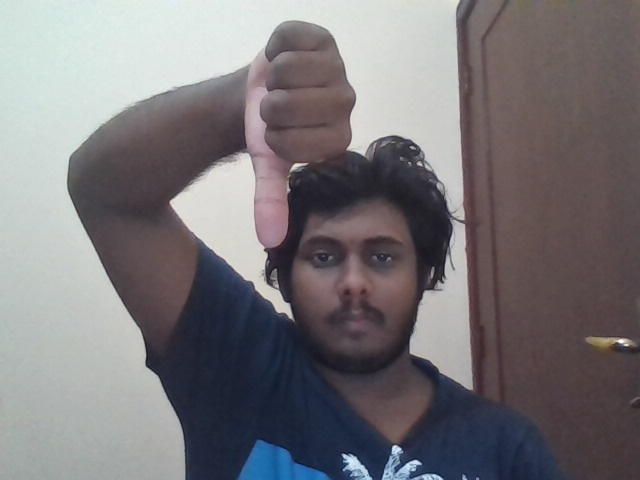thumbsdown: (244, 20, 357, 248)
